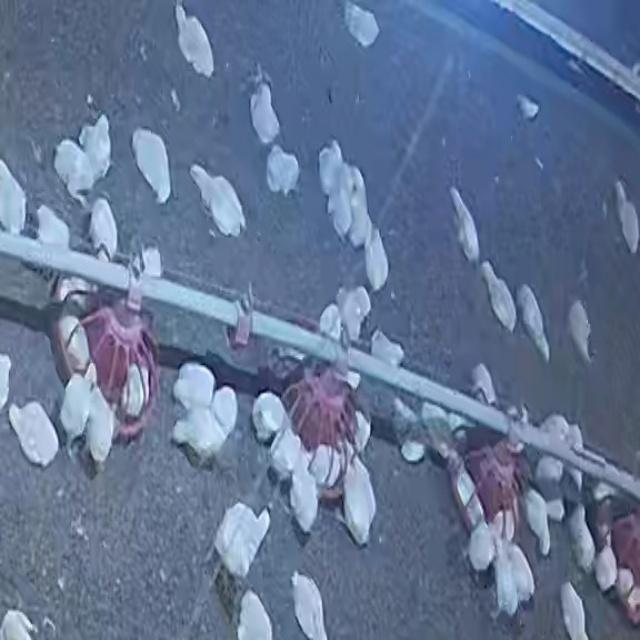chicken: (53, 115, 112, 204), (187, 161, 251, 243), (212, 501, 272, 580), (127, 125, 176, 207), (6, 399, 62, 466), (339, 458, 379, 548), (172, 408, 230, 468), (173, 2, 216, 80), (480, 258, 519, 337), (288, 452, 322, 536), (448, 183, 482, 265), (58, 373, 97, 443), (290, 573, 330, 639), (516, 284, 550, 361), (84, 383, 115, 467), (248, 78, 282, 146), (0, 155, 28, 234), (175, 359, 216, 411), (335, 286, 372, 343), (613, 179, 640, 256), (521, 486, 551, 555), (268, 421, 302, 480), (251, 390, 288, 444), (566, 298, 594, 368), (88, 196, 119, 259), (265, 143, 301, 197), (504, 543, 534, 605), (466, 519, 498, 573), (363, 227, 389, 290), (308, 444, 340, 488), (211, 386, 238, 435), (592, 544, 618, 592)
